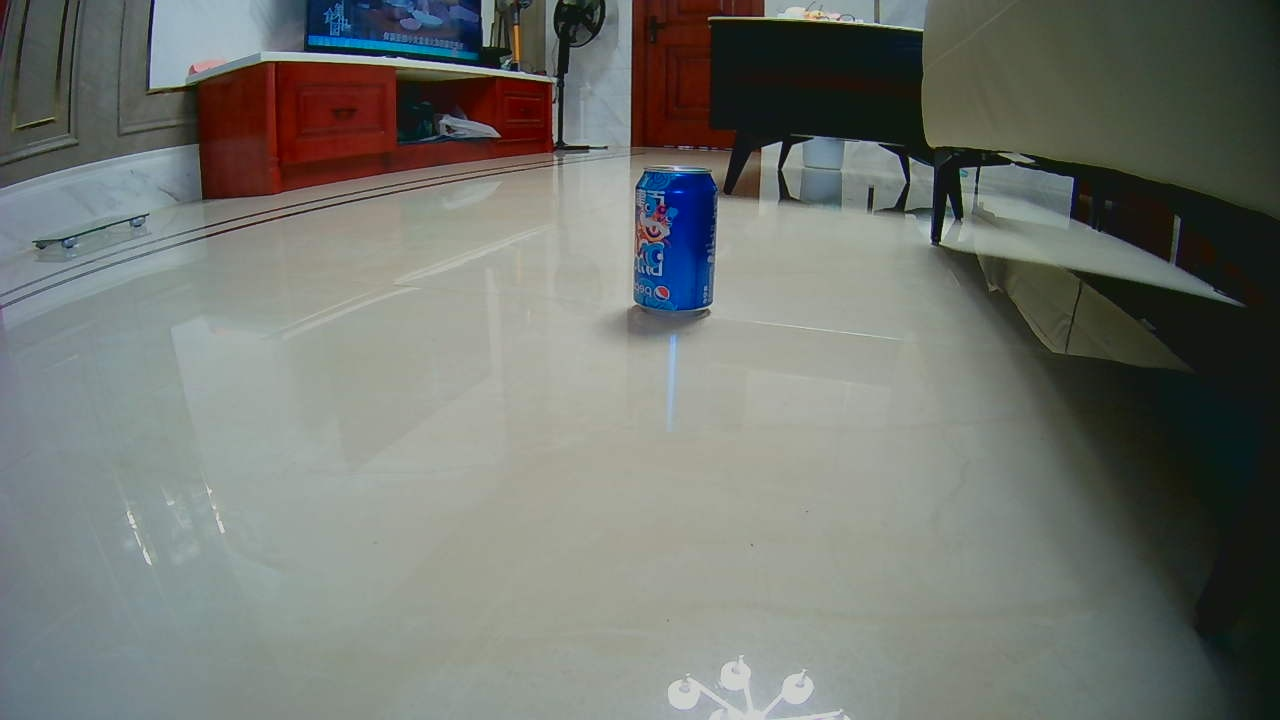pessi: (633, 165, 715, 318)
